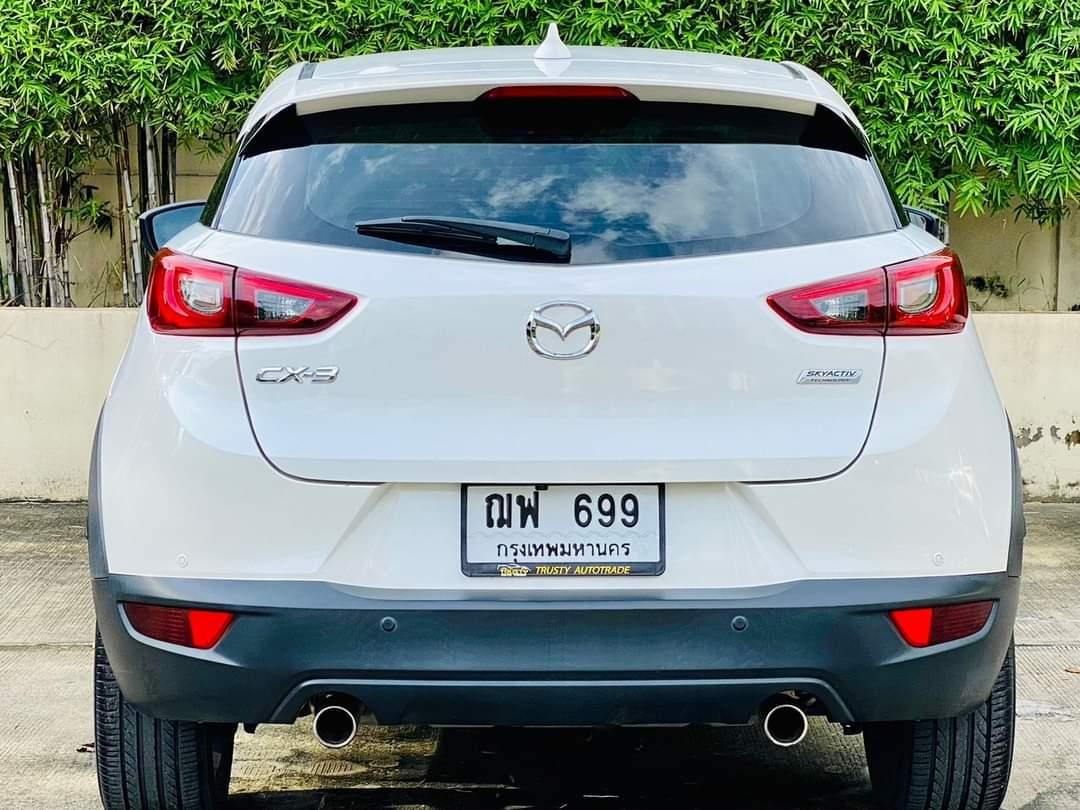license-plate: (458, 477, 666, 581)
